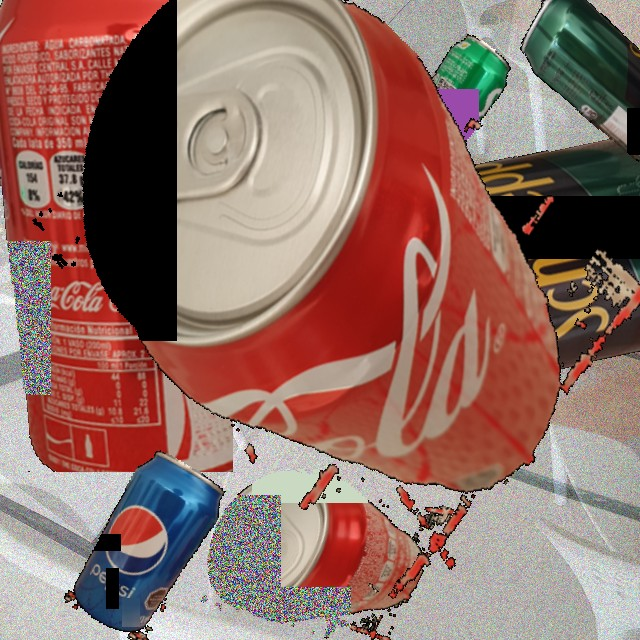coca cola: (0, 0, 640, 640), (0, 0, 233, 472), (177, 413, 461, 640)
pepsi: (56, 434, 238, 640)
schweppes: (288, 117, 640, 428), (498, 0, 640, 174)
sprite: (395, 23, 515, 181)
